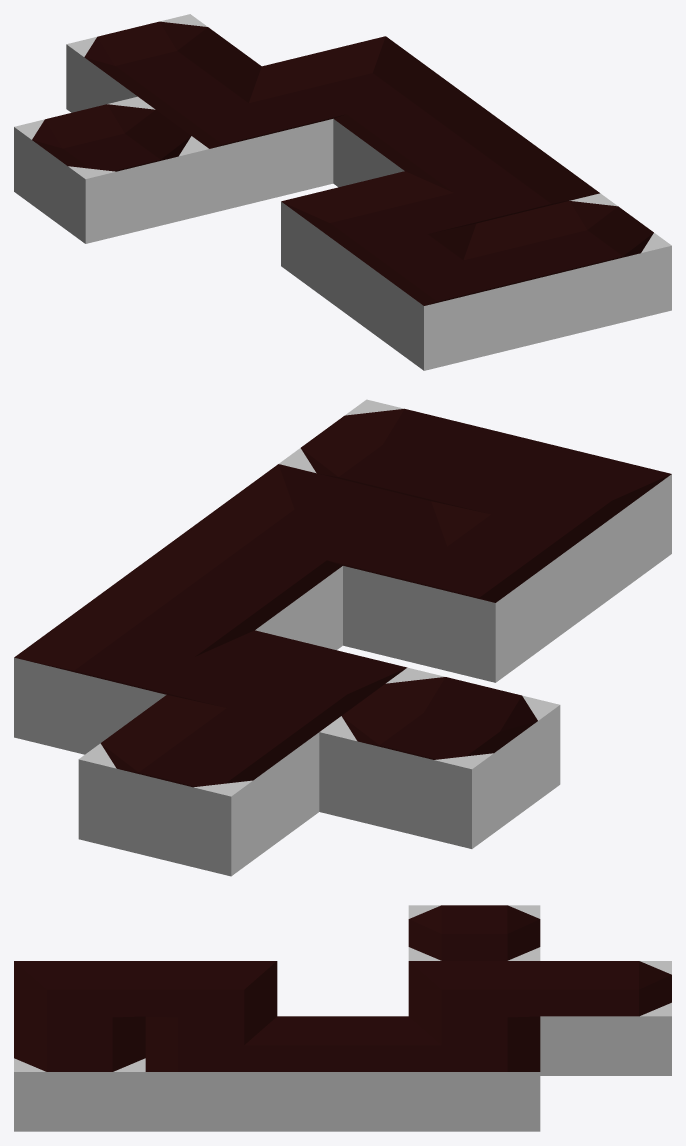
The model's file is 84f_path.obj.
3 renders of one model, top to bottom at view 1: azimuth 30°, elevation 25°; view 2: azimuth 150°, elevation 25°; view 3: azimuth 270°, elevation 25°, orthographic. The views are drawn at different scales.
Parts seen in each view (by area): view 1: foil.hole.0.3_Cube.319, foil.corner.1.0_corner.1586, foil.ending.2.0_ending.636, foil.corner.1.3_corner.1588, foil.corner.1.1_corner.1587, foil.ending.1.4_ending.635, foil.through.2.2_through.318, foil.corner.2.3_corner.1590, foil.corner.2.1_corner.1589; view 2: foil.hole.0.3_Cube.319, foil.ending.1.4_ending.635, foil.corner.1.1_corner.1587, foil.corner.1.0_corner.1586, foil.corner.2.3_corner.1590, foil.through.2.2_through.318, foil.corner.2.1_corner.1589, foil.ending.2.0_ending.636, foil.corner.1.3_corner.1588; view 3: foil.through.2.2_through.318, foil.ending.1.4_ending.635, foil.corner.2.1_corner.1589, foil.corner.2.3_corner.1590, foil.ending.2.0_ending.636, foil.corner.1.1_corner.1587, foil.corner.1.3_corner.1588, foil.corner.1.0_corner.1586, foil.hole.0.3_Cube.319.
Part boxes in pixels (<box>): foil.hole.0.3_Cube.319: <box>14,96,209,243</box>; foil.corner.1.0_corner.1586: <box>352,223,547,370</box>; foil.ending.2.0_ending.636: <box>476,193,671,340</box>; foil.corner.1.3_corner.1588: <box>139,66,333,213</box>; foil.corner.1.1_corner.1587: <box>281,171,475,318</box>; foil.ending.1.4_ending.635: <box>66,14,261,112</box>; foil.through.2.2_through.318: <box>333,88,528,187</box>; foil.corner.2.3_corner.1590: <box>262,36,456,127</box>; foil.corner.2.1_corner.1589: <box>405,141,599,226</box>; foil.hole.0.3_Cube.319: <box>319,667,560,848</box>; foil.ending.1.4_ending.635: <box>78,695,319,876</box>; foil.corner.1.1_corner.1587: <box>343,501,583,682</box>; foil.corner.1.0_corner.1586: <box>431,437,671,617</box>; foil.corner.2.3_corner.1590: <box>14,593,254,754</box>; foil.through.2.2_through.318: <box>102,528,342,650</box>; foil.corner.2.1_corner.1589: <box>190,464,430,576</box>; foil.ending.2.0_ending.636: <box>279,399,518,504</box>; foil.corner.1.3_corner.1588: <box>167,630,407,742</box>; foil.through.2.2_through.318: <box>277,1016,408,1131</box>; foil.ending.1.4_ending.635: <box>540,961,671,1075</box>; foil.corner.2.1_corner.1589: <box>145,1016,277,1131</box>; foil.corner.2.3_corner.1590: <box>408,1016,540,1131</box>; foil.ending.2.0_ending.636: <box>14,1016,145,1131</box>; foil.corner.1.1_corner.1587: <box>145,961,277,1031</box>; foil.corner.1.3_corner.1588: <box>408,961,540,1031</box>; foil.corner.1.0_corner.1586: <box>14,961,145,1031</box>; foil.hole.0.3_Cube.319: <box>408,905,540,960</box>.
Size of the model in its own units: 6 by 1 by 10.
